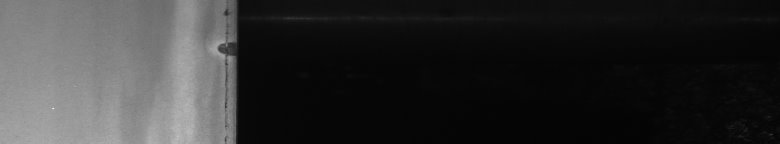hb: (203, 31, 224, 72)
